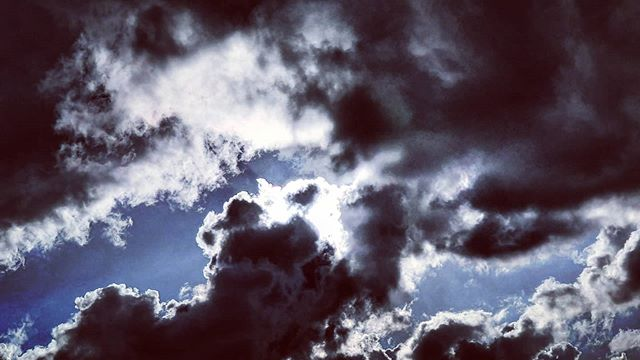sky: (7, 2, 640, 360)
